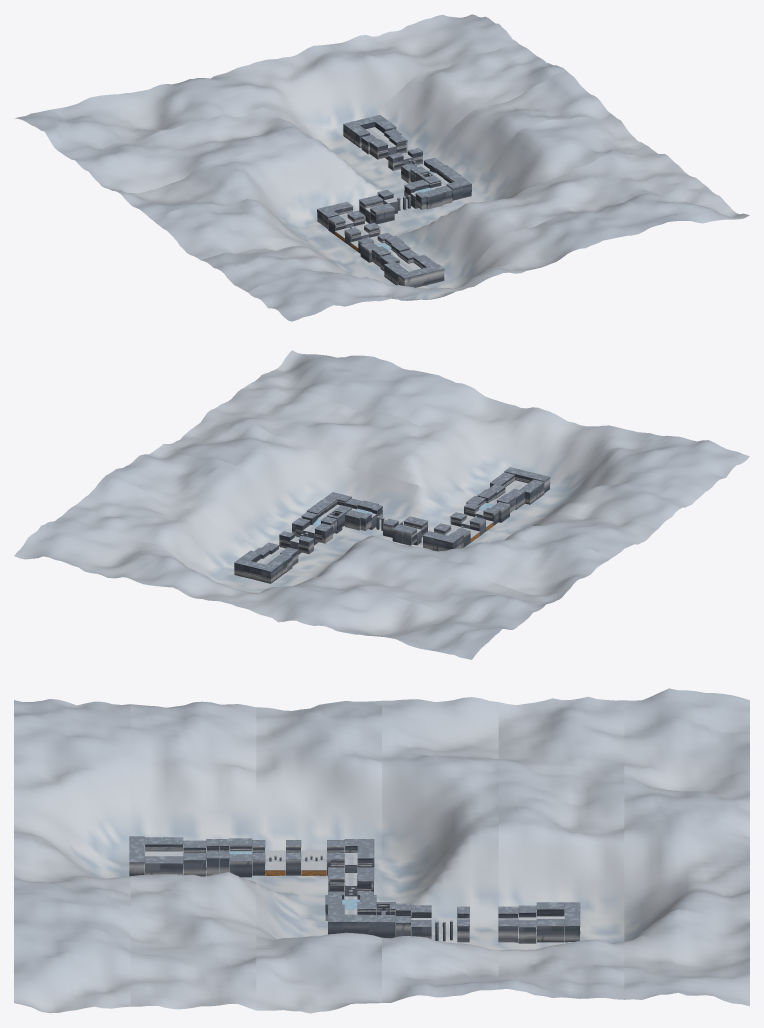
Rendered from frostpeak_trail_terrain.glb.
3 renders of one model, top to bottom at view 1: azimuth 30°, elevation 25°; view 2: azimuth 150°, elevation 25°; view 3: azimuth 270°, elevation 25°, orthographic. The views are drawn at different scales.
Visible parts, largest first — view 1: backdrop_5, backdrop_4, backdrop_3, backdrop_2, backdrop_1, backdrop_0, terrain_I, terrain_F, terrain_A, terrain_D, terrain_E, terrain_H (+3 smaller); view 2: backdrop_0, backdrop_1, backdrop_4, backdrop_5, backdrop_3, backdrop_2, terrain_I, terrain_F, terrain_H, terrain_E, terrain_A, terrain_D (+3 smaller); view 3: backdrop_5, backdrop_0, backdrop_4, backdrop_1, backdrop_3, backdrop_2, terrain_I, terrain_D, terrain_A, terrain_G, terrain_H, terrain_F (+3 smaller).
Part boxes in pixels (x1,y1,x2,y2): backdrop_5: (15, 14, 518, 152); backdrop_4: (62, 44, 566, 192); backdrop_3: (110, 71, 610, 227); backdrop_2: (153, 114, 657, 264); backdrop_1: (201, 153, 705, 292); backdrop_0: (248, 186, 749, 321); terrain_I: (343, 115, 407, 159); terrain_F: (368, 179, 452, 222); terrain_A: (384, 254, 444, 287); terrain_D: (328, 211, 380, 251); terrain_E: (317, 197, 384, 228); terrain_H: (388, 148, 444, 183); backdrop_0: (248, 350, 749, 496); backdrop_1: (201, 385, 705, 532); backdrop_4: (62, 474, 566, 625); backdrop_5: (14, 516, 518, 659); backdrop_3: (109, 452, 610, 595); backdrop_2: (153, 422, 657, 558); terrain_I: (234, 542, 298, 583); terrain_F: (344, 498, 419, 543); terrain_H: (279, 512, 337, 554); terrain_E: (402, 519, 463, 551); terrain_A: (490, 467, 550, 504); terrain_D: (434, 512, 493, 547); backdrop_5: (624, 688, 749, 1006); backdrop_0: (14, 699, 130, 1013); backdrop_4: (498, 696, 624, 999); backdrop_1: (130, 701, 256, 1010); backdrop_3: (382, 697, 498, 1002); backdrop_2: (256, 700, 381, 1013); terrain_I: (498, 902, 580, 943); terrain_D: (265, 840, 344, 875); terrain_A: (129, 836, 183, 876); terrain_G: (328, 902, 395, 938); terrain_H: (396, 903, 469, 942); terrain_F: (325, 872, 376, 920).
Size of the model in its own units: 546 by 62.49 by 574.
